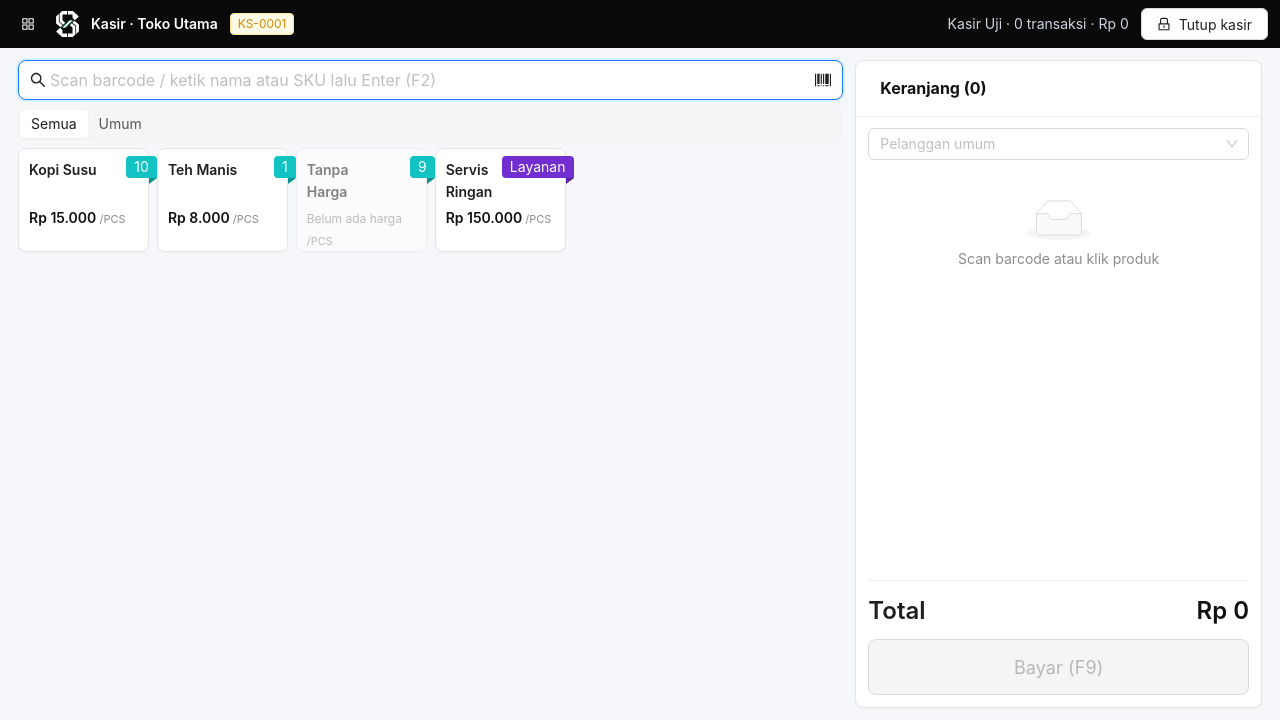
Test case: Kasir (Register) › tidak boleh melebihi stok: klik kedua pada barang berstok 1 ditolak dengan pesan
Click the text "Teh Manis".
click(203, 170)  # box top-left (168, 161), bottom-right (237, 178)
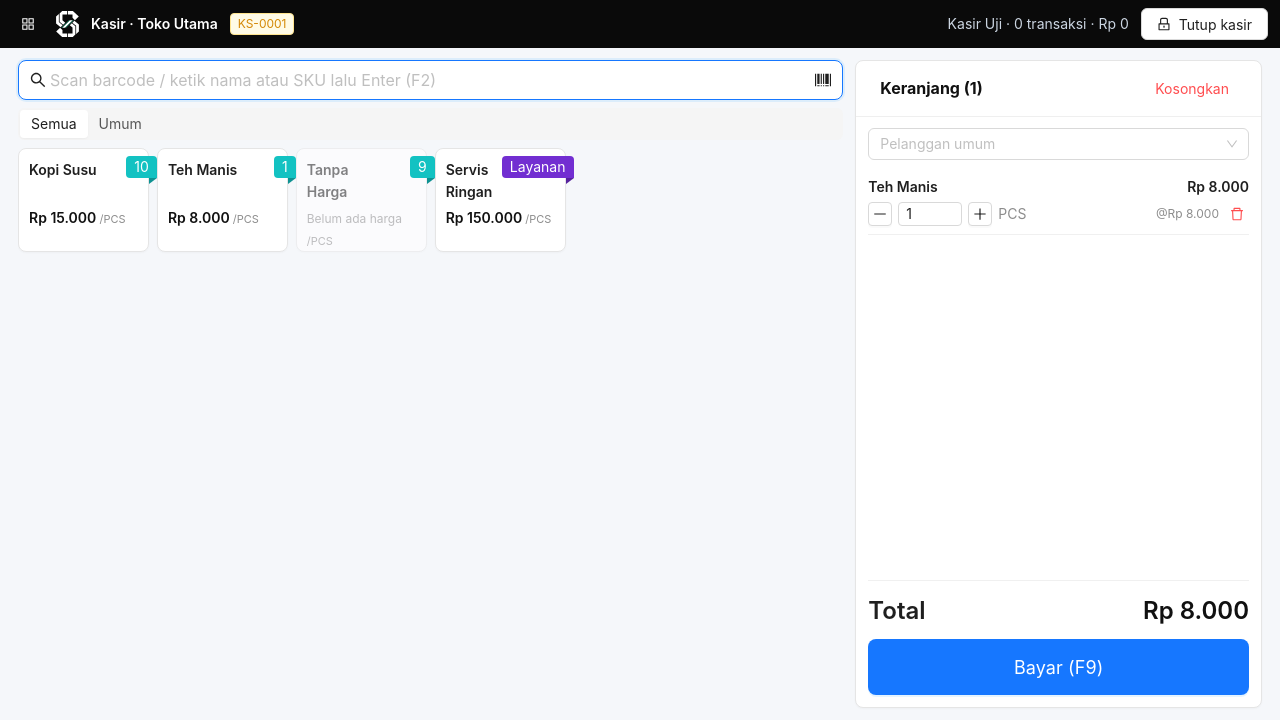
Now the text "Keranjang (1)" is shown, box top-left (880, 78), bottom-right (983, 98)
Click the text "Teh Manis" next to "10".
click(203, 170)  # box top-left (168, 161), bottom-right (237, 178)
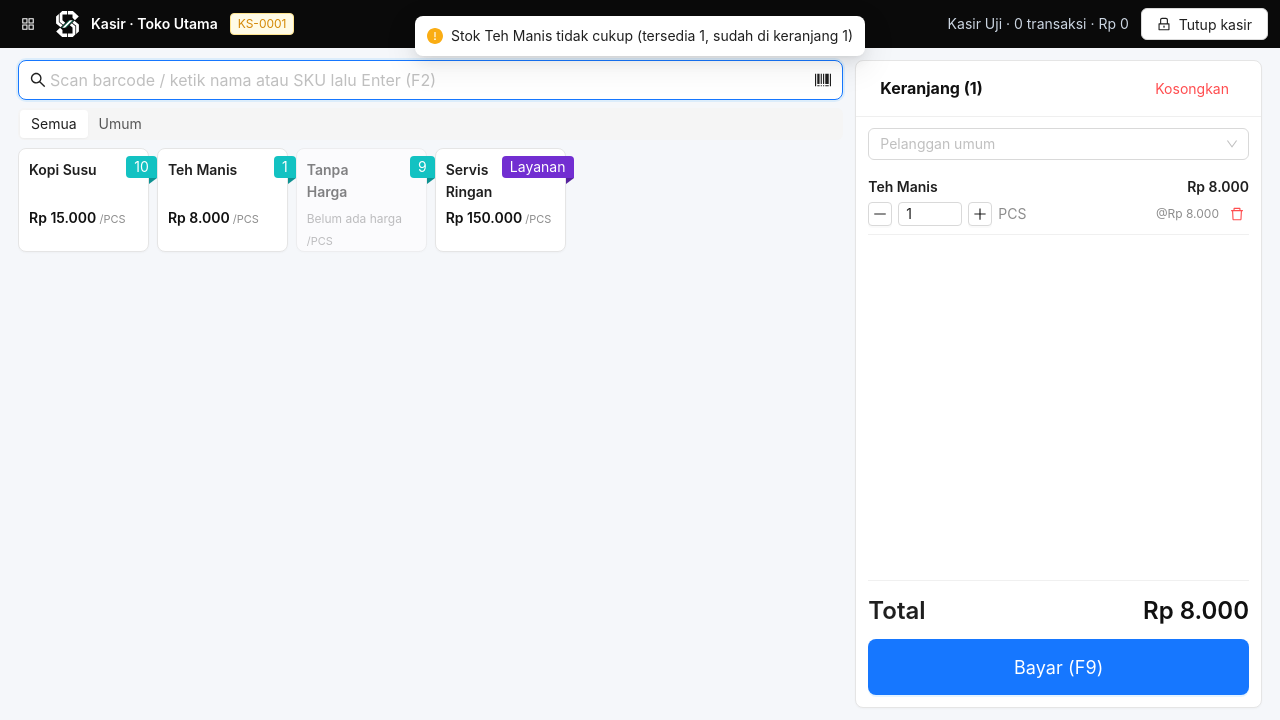
Now the text "Keranjang (1)" is shown, box top-left (880, 78), bottom-right (983, 98)
Now the text "Stok Teh Manis tidak cukup" is shown, box top-left (451, 27), bottom-right (853, 44)
